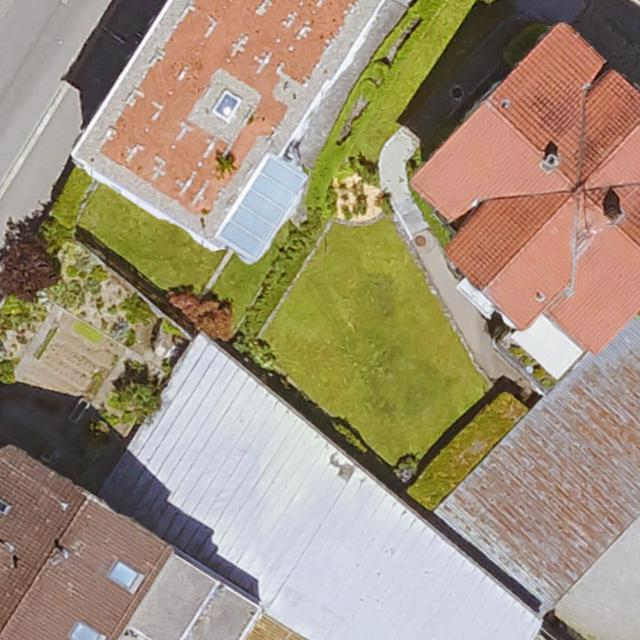tree: (0, 237, 58, 299)
